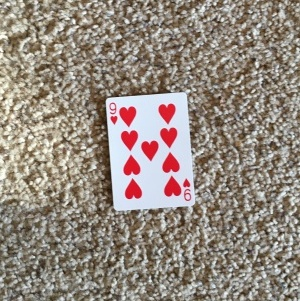card: (103, 91, 197, 210)
